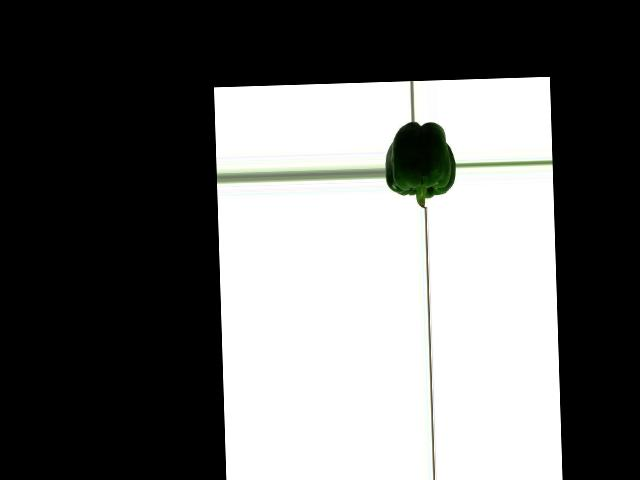bell_pepper: (385, 120, 456, 208)
